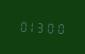one: (27, 19, 35, 33)
three: (36, 19, 44, 34)
zero: (18, 18, 26, 33), (54, 20, 62, 35), (45, 20, 53, 34)
